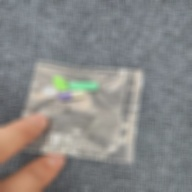러키펜정: (42, 86, 60, 99)
씨엠지세파클러캡슐: (56, 90, 87, 102)
에르도캡슐: (68, 82, 99, 92)
휴티렌정: (52, 76, 69, 92)
